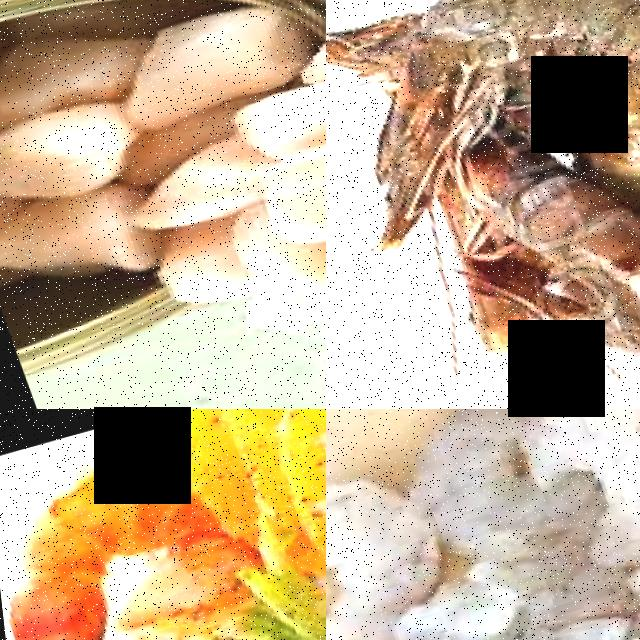sea scallops: (98, 0, 306, 131), (0, 91, 141, 218), (231, 115, 326, 258)
shrimp: (488, 165, 640, 385), (497, 409, 640, 581), (397, 0, 640, 100), (326, 455, 456, 636), (565, 0, 640, 243), (538, 532, 640, 640)
